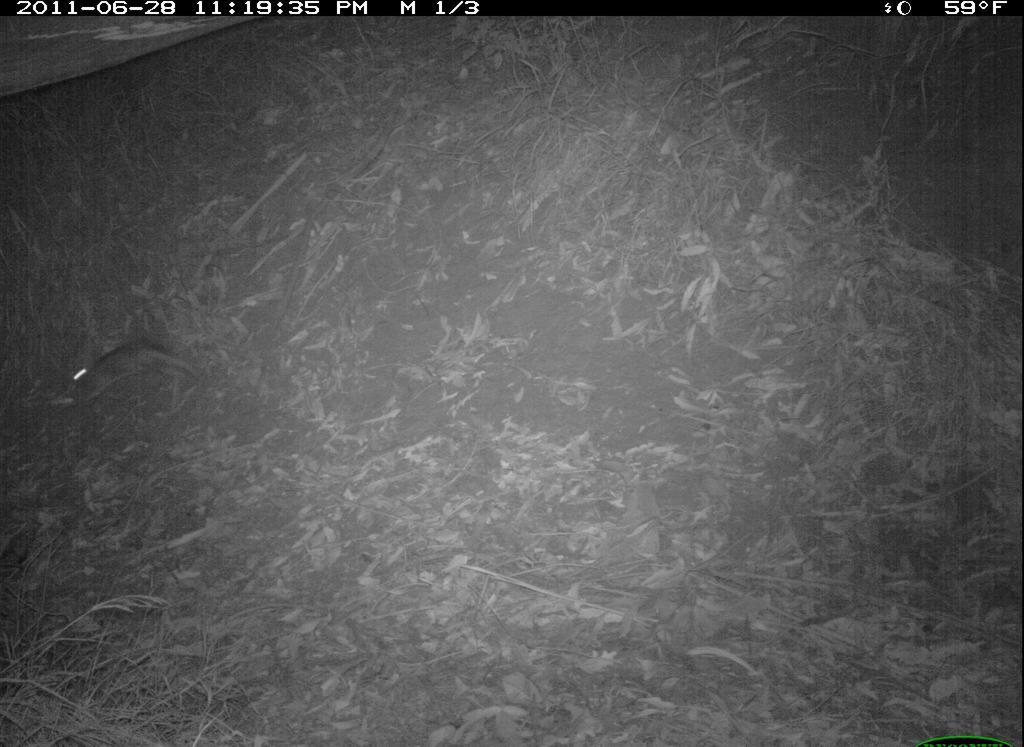rabbit: (54, 324, 205, 413)
